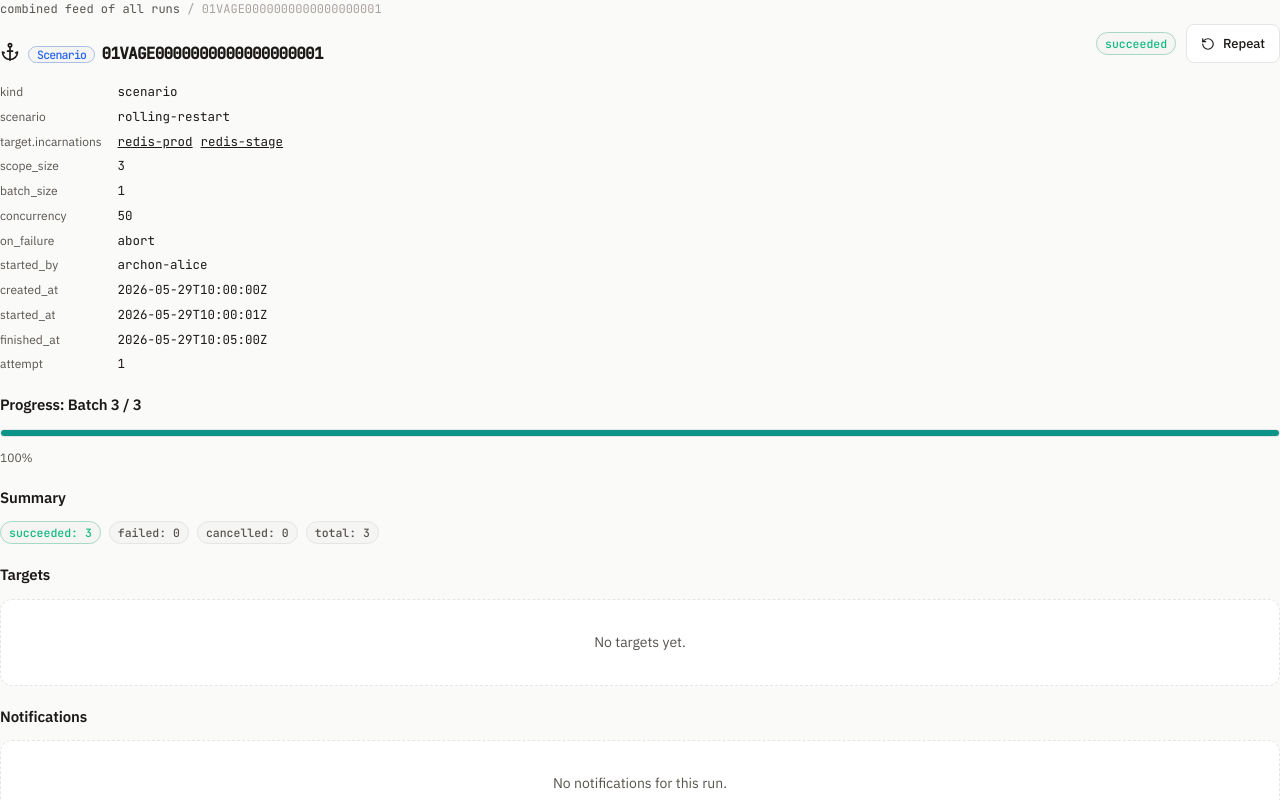
Test: VoyageDetail › [guard] confirm dialog appears if sessionStorage has a draft
This screenshot has width=1280, height=800.
Click the button with test id "voyage-repeat-btn".
click(1233, 44)  # box [1186,24,1279,63]
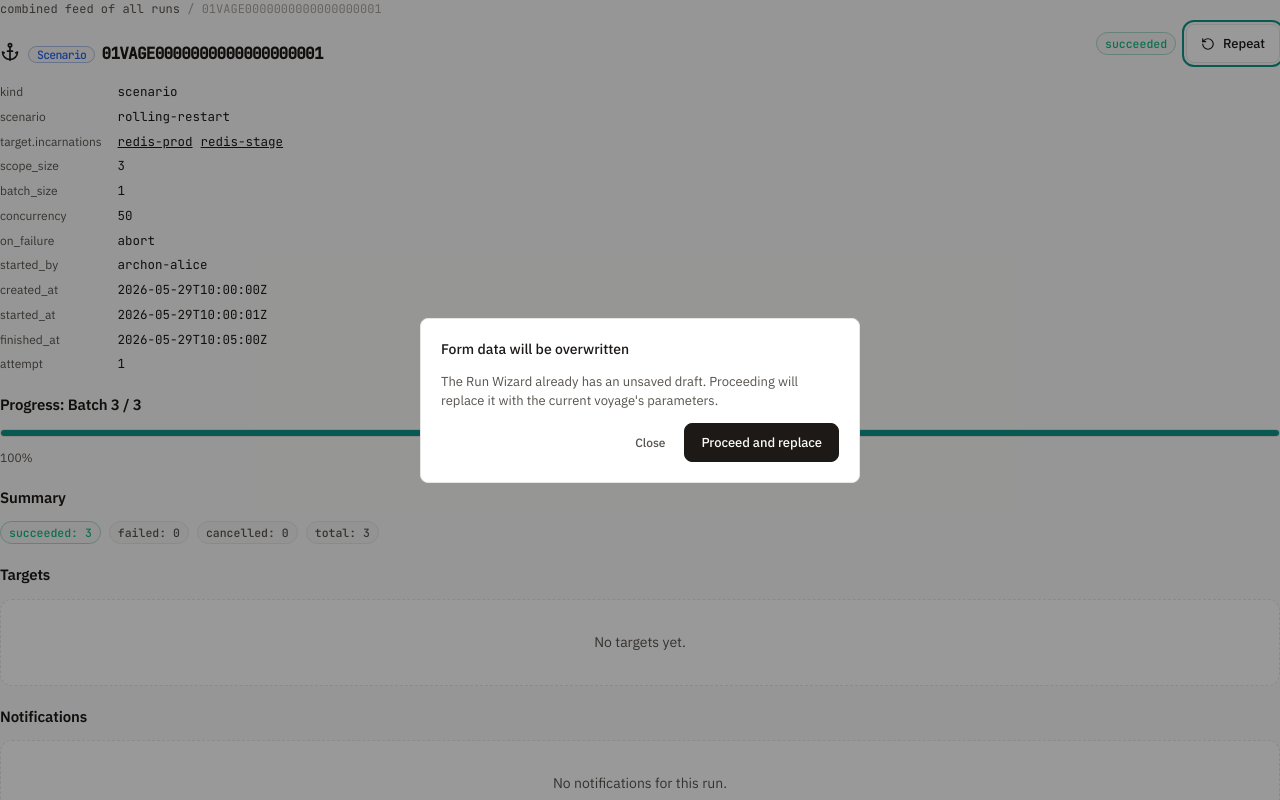
Now the dialog with test id "voyage-repeat-confirm-dialog" is shown
Click the button "Close".
click(650, 442)  # box [624,422,676,462]
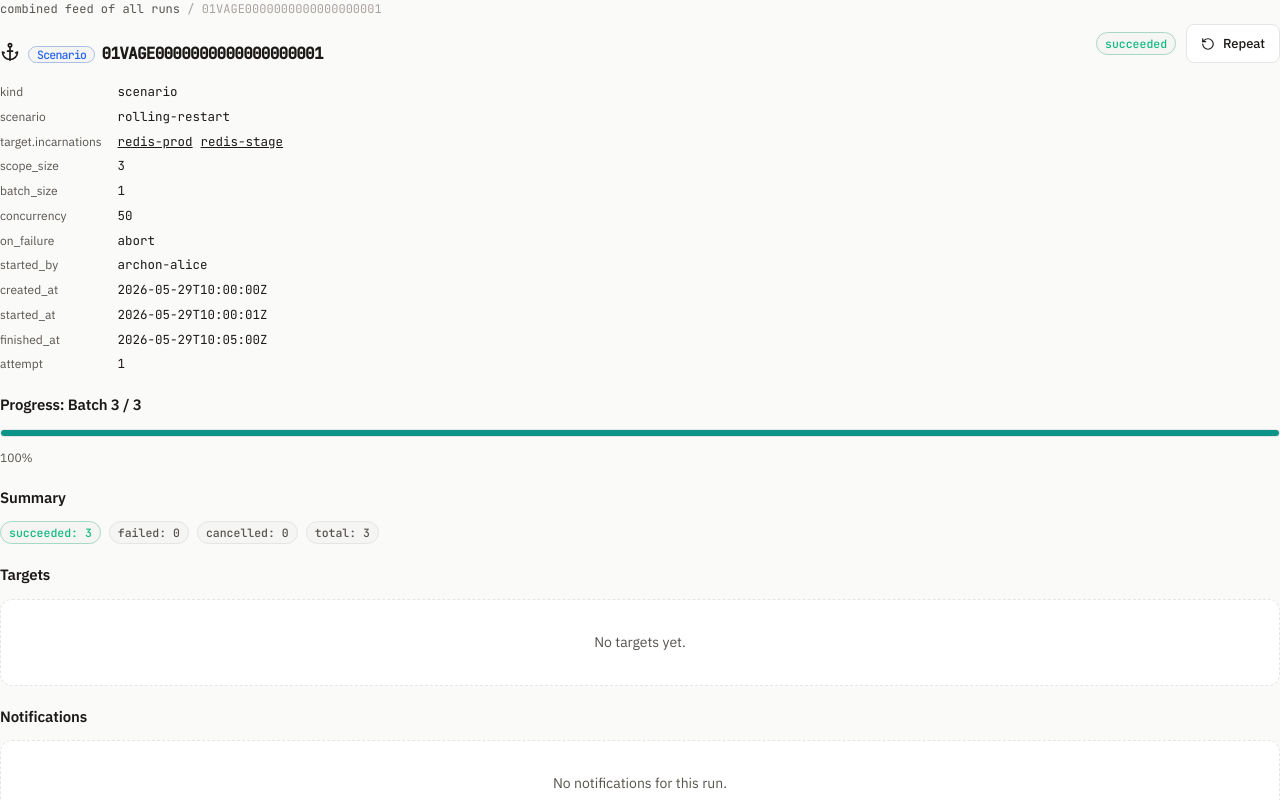
Now the dialog with test id "voyage-repeat-confirm-dialog" is gone
